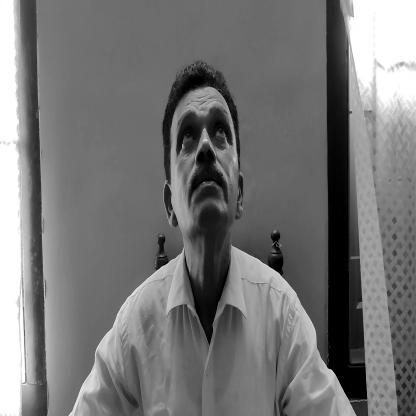Distracted: (166, 84, 246, 239)
